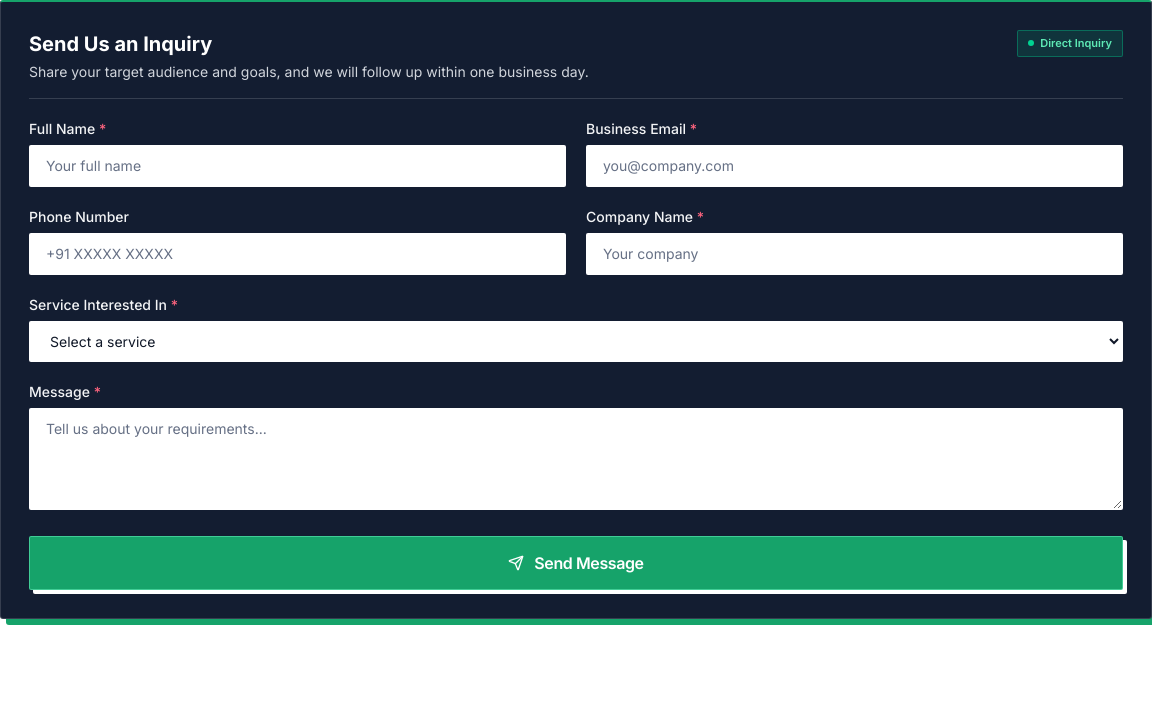
Scenario: The Softnest Technologies Website & Contact Form › validates required fields, email format, and optional phone format without calling fetch
Click the button "Send Message" at (576, 563), box [29,536,1123,590]
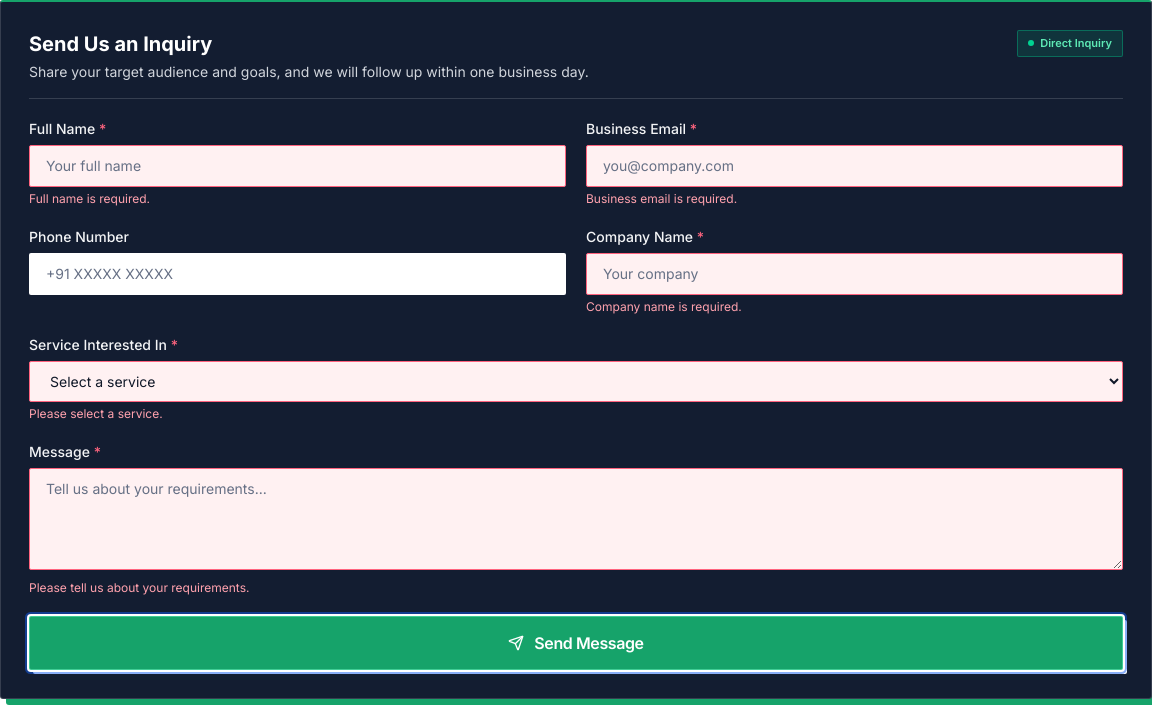
Expected: the text "Full name is required." is shown, [29,191,150,206]
Expected: the text "Business email is required." is shown, [586,191,737,206]
Expected: the text "Company name is required." is shown, [586,299,742,314]
Type "Test User" into the field labelled "Full Name *" at (298, 166), box [29,145,566,187]
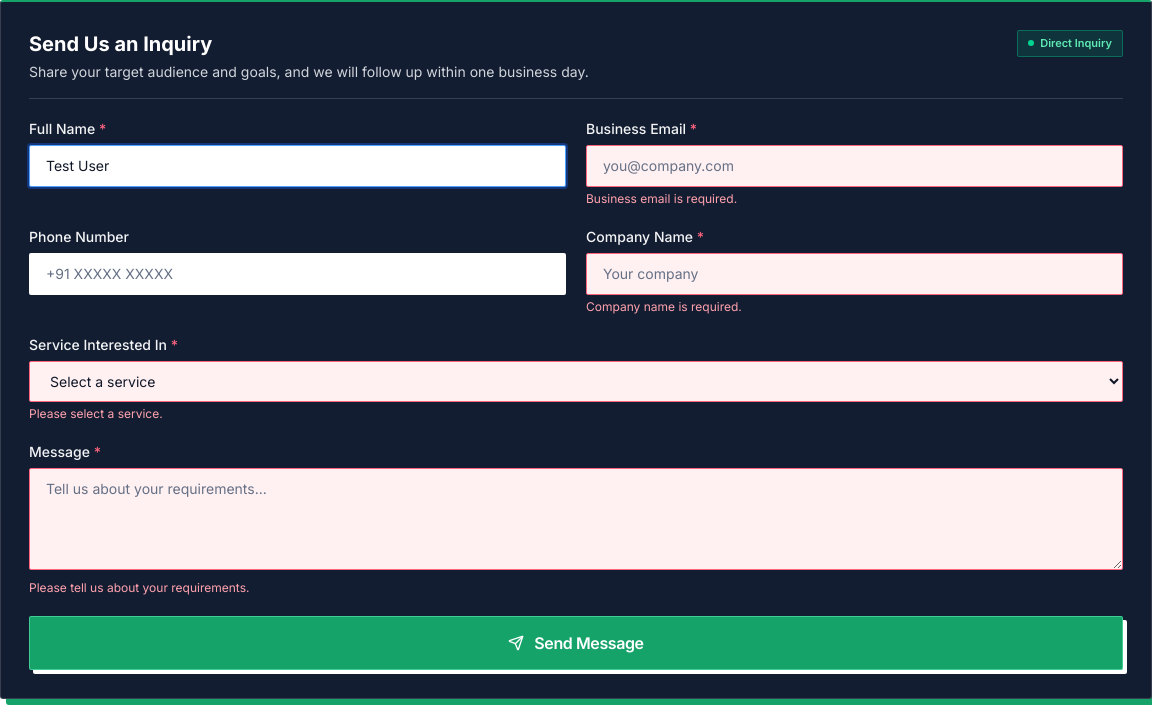
Type "invalid-email" into the field labelled "Business Email *" at (854, 166), box [586,145,1123,187]
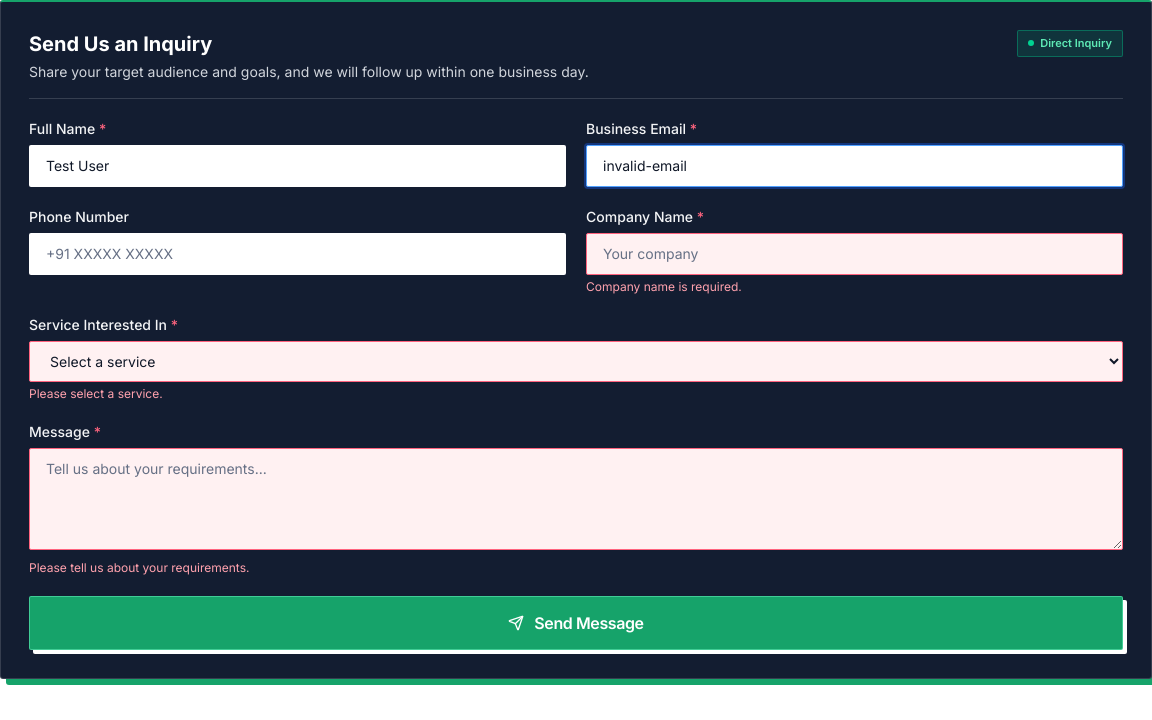
Type "abc" into the field labelled "Phone Number" at (298, 254), box [29,233,566,275]
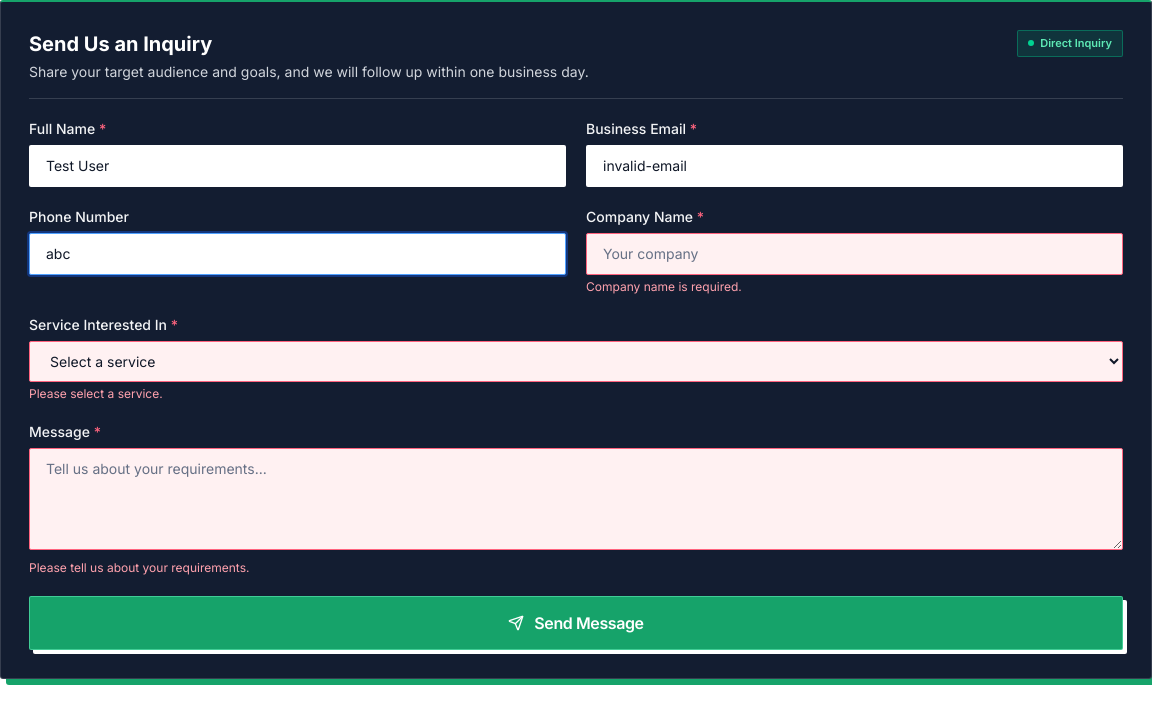
Click the button "Send Message" at (576, 623), box [29,596,1123,650]
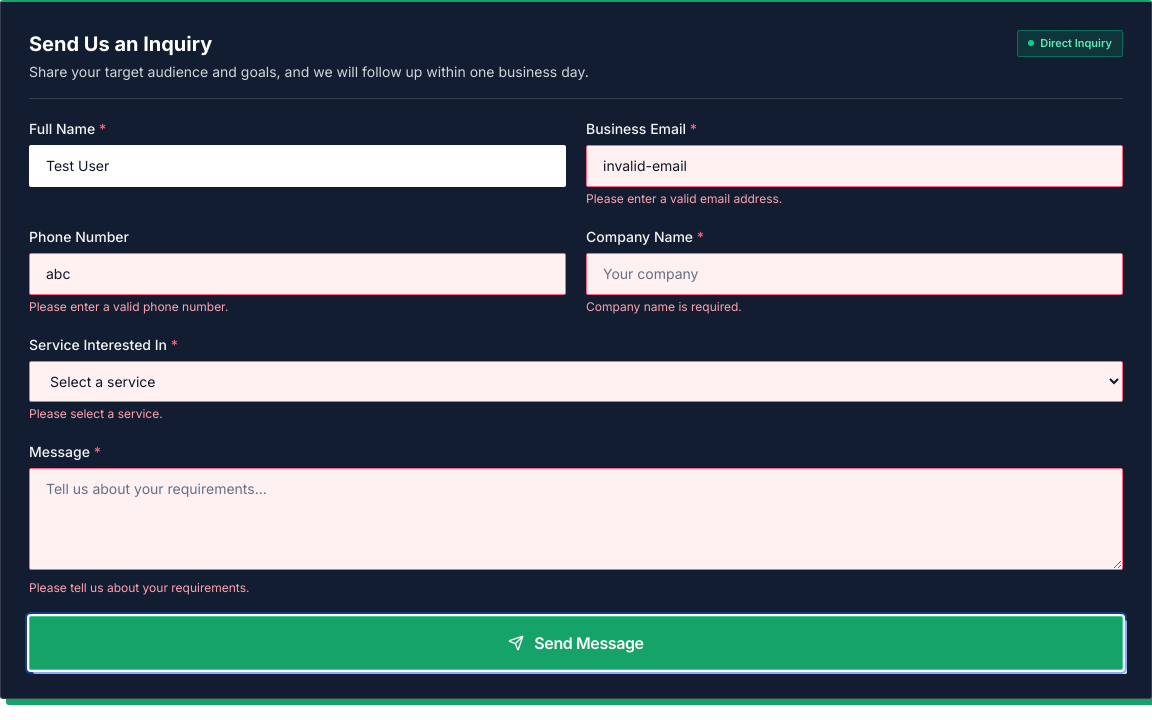
Expected: the text "Please enter a valid email address." is shown, [586,191,782,206]
Expected: the text "Please enter a valid phone number." is shown, [29,299,228,314]
